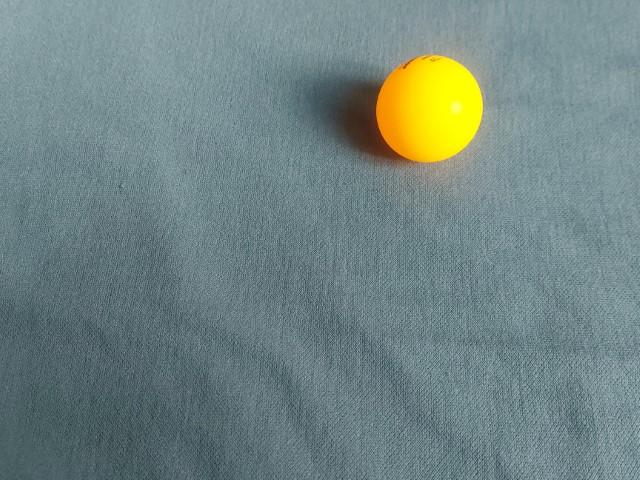oball: (366, 50, 487, 166)
